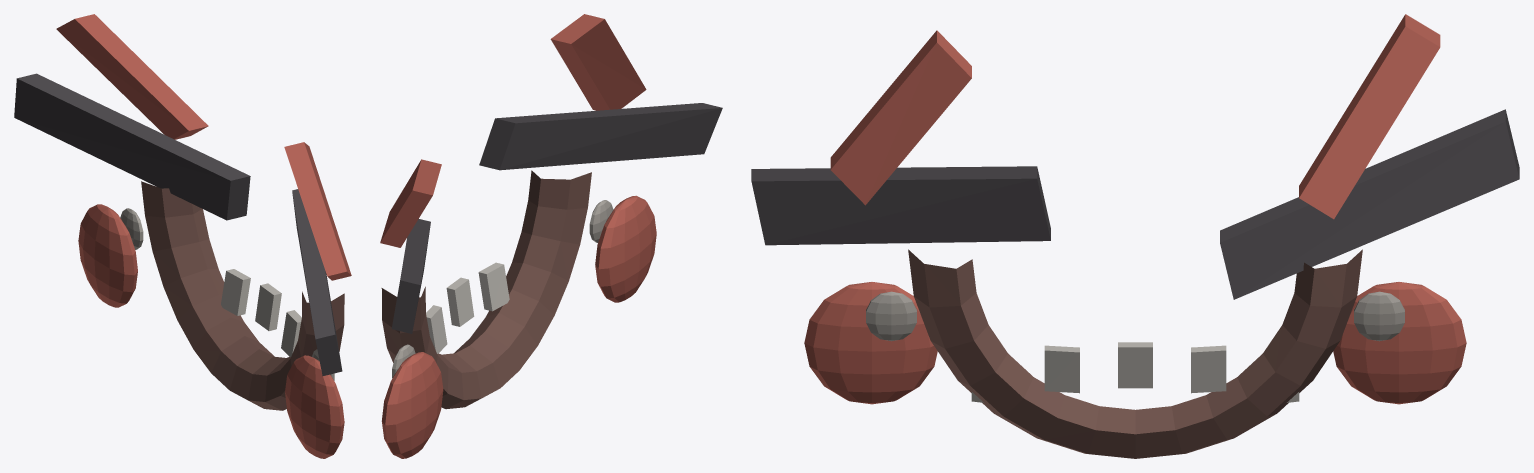
The model's file is devil.glb.
3 views of the same model, side by side, from view 1: azimuth 30°, elevation 25°; view 2: azimuth 150°, elevation 25°; view 3: azimuth 270°, elevation 25° (orthographic). The views are drawn at different scales.
Parts seen in each view (by area): view 1: face-devil; view 2: face-devil; view 3: face-devil.
Boxes of the visible parts, x1,y1,x2,y2 form: face-devil: (14, 14, 351, 458); face-devil: (380, 14, 722, 458); face-devil: (751, 14, 1519, 458).
Size of the model in its own units: 0.0372 by 0.0916 by 0.1574.
